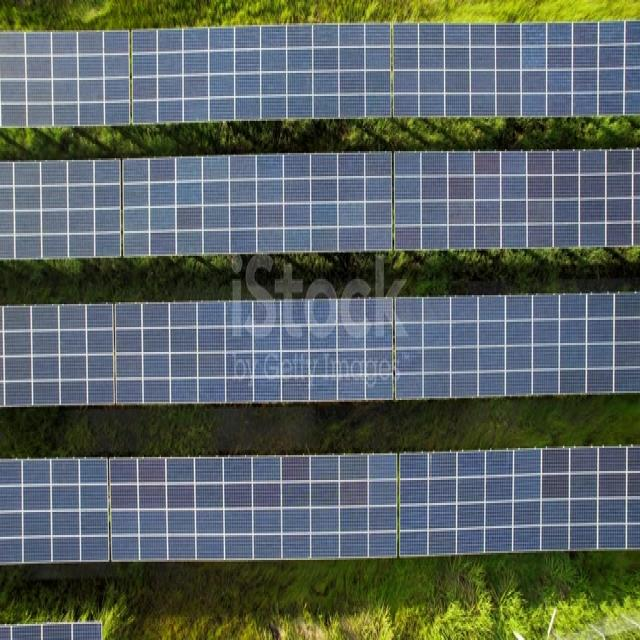Solar-panels: (2, 446, 640, 561), (1, 296, 640, 406), (1, 151, 638, 260), (1, 26, 640, 127)
